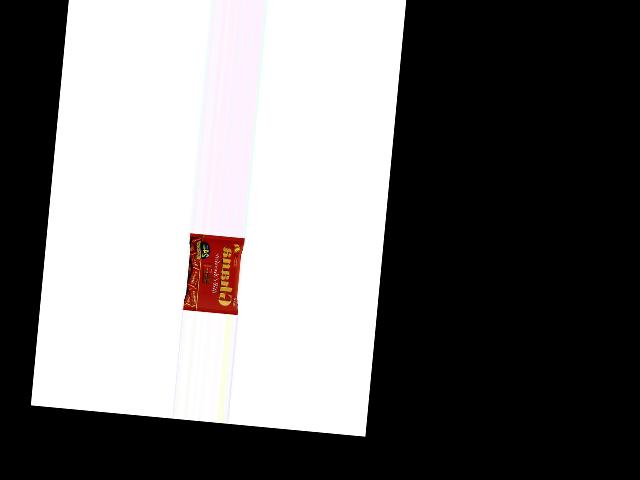chocolate: (181, 231, 243, 313)
